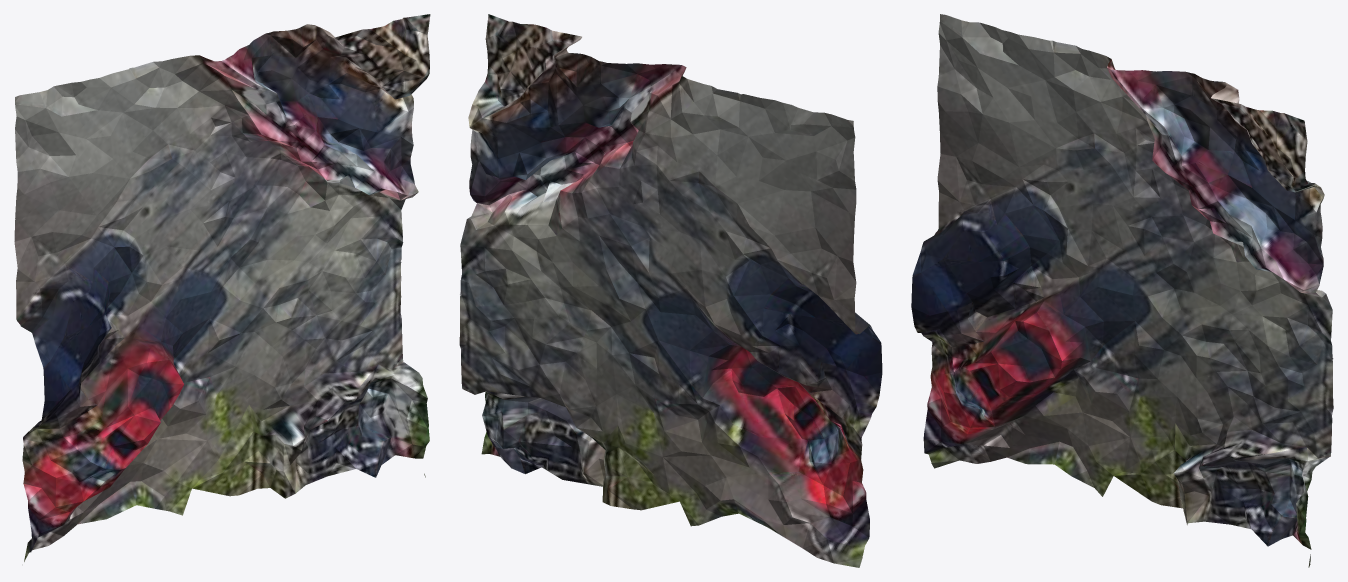
File: tile_4_14_0_tex.obj
3 views of the same model, side by side, from view 1: azimuth 30°, elevation 25°; view 2: azimuth 150°, elevation 25°; view 3: azimuth 330°, elevation 25° (orthographic). The views are drawn at different scales.
Visible parts, largest first — view 1: obj_0; view 2: obj_0; view 3: obj_0.
Boxes of the visible parts, x1=… form: obj_0: x1=14, y1=14, x2=430, y2=561; obj_0: x1=459, y1=14, x2=882, y2=567; obj_0: x1=911, y1=14, x2=1333, y2=567.
Bounding box in the file's own units: 10.02 × 11.27 × 1.95.
1 material, 1 textured.
